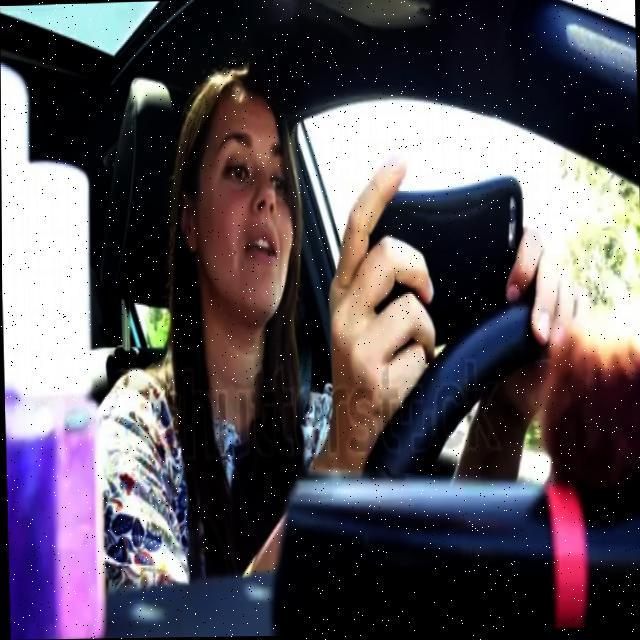PhoneCall: (357, 180, 526, 350)
